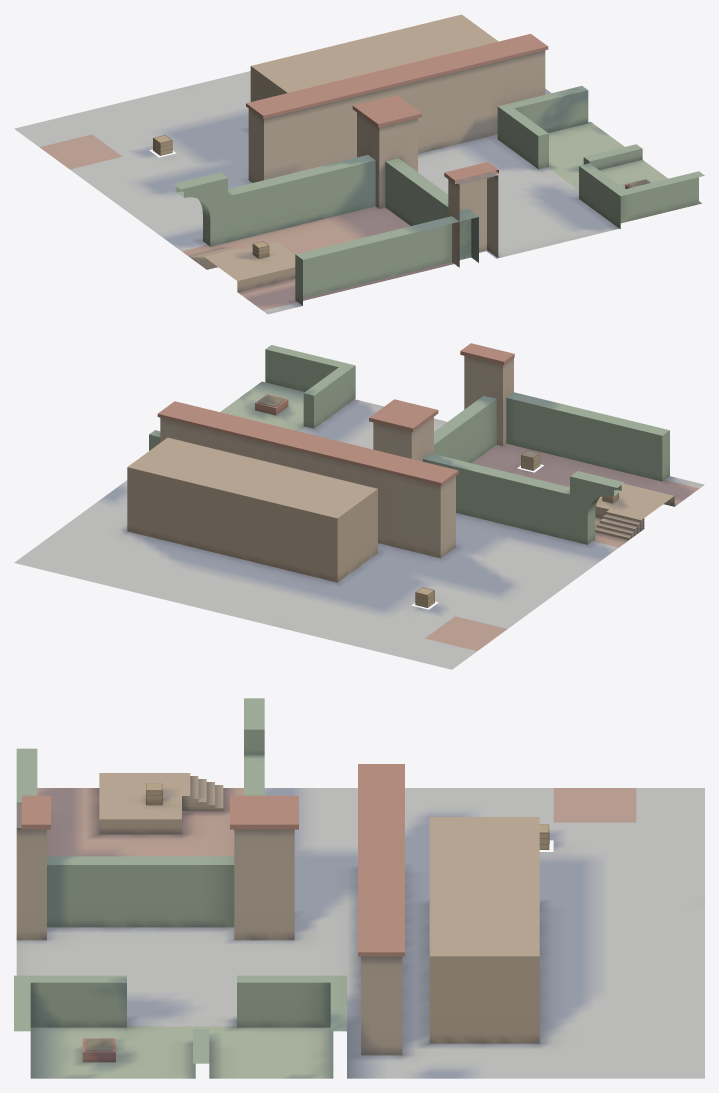
3 renders of one model, top to bottom at view 1: azimuth 30°, elevation 25°; view 2: azimuth 150°, elevation 25°; view 3: azimuth 270°, elevation 25°, orthographic. The views are drawn at different scales.
Visible parts, largest first — view 1: t; view 2: t; view 3: t.
Part boxes in pixels (x1=…): t: x1=14, y1=14, x2=704, y2=314; t: x1=14, y1=343, x2=704, y2=669; t: x1=14, y1=698, x2=704, y2=1078.
Bounding box in the file's own units: 50.38 × 9.4 × 50.2.
